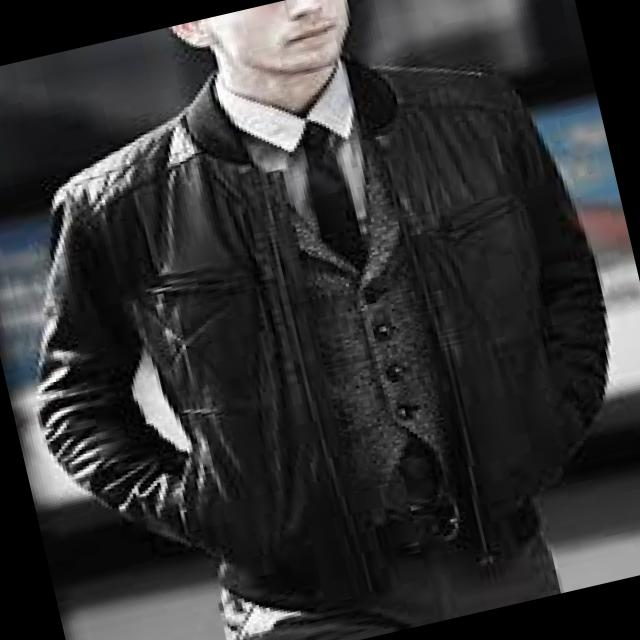Jacket: (21, 19, 610, 632)
